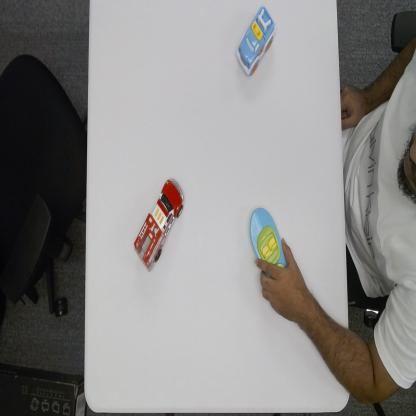Arm: (297, 300, 349, 390)
Boat: (249, 205, 286, 277)
Car: (234, 4, 277, 78)
Firetruck: (133, 176, 185, 272)
Hand: (253, 236, 306, 318)
